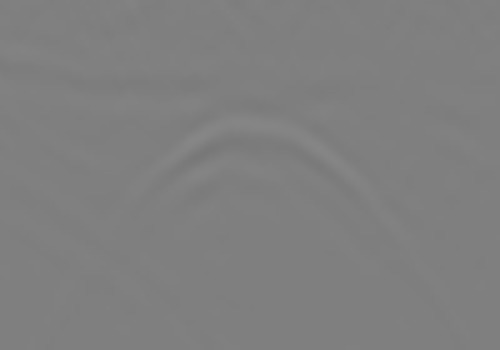hyperbola: (102, 103, 404, 339)
